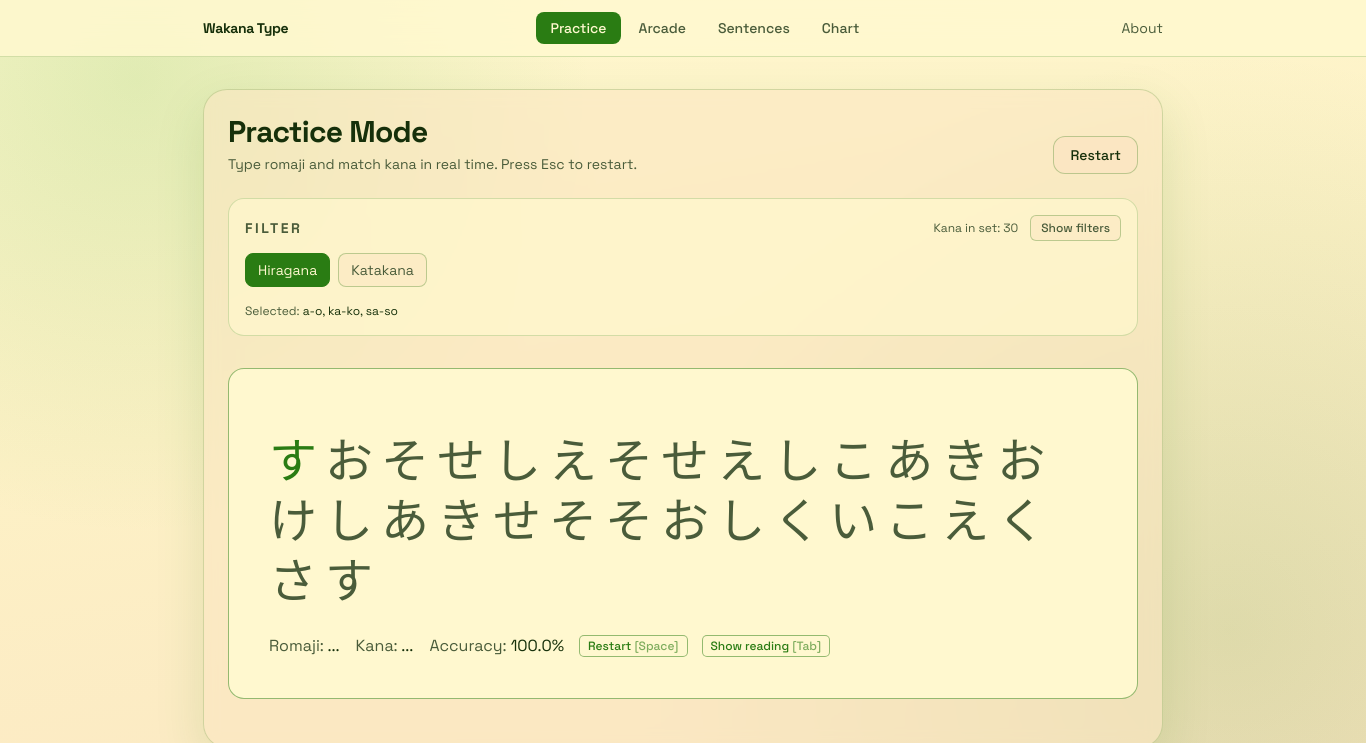
Test: Character filter selection logic › selects and de-selects an entire group family
The image size is (1366, 743).
expect the text "Selected:" is shown: met, box [245, 303, 303, 319]
Click the button "Show filters" at (1076, 228), box [1030, 215, 1121, 241]
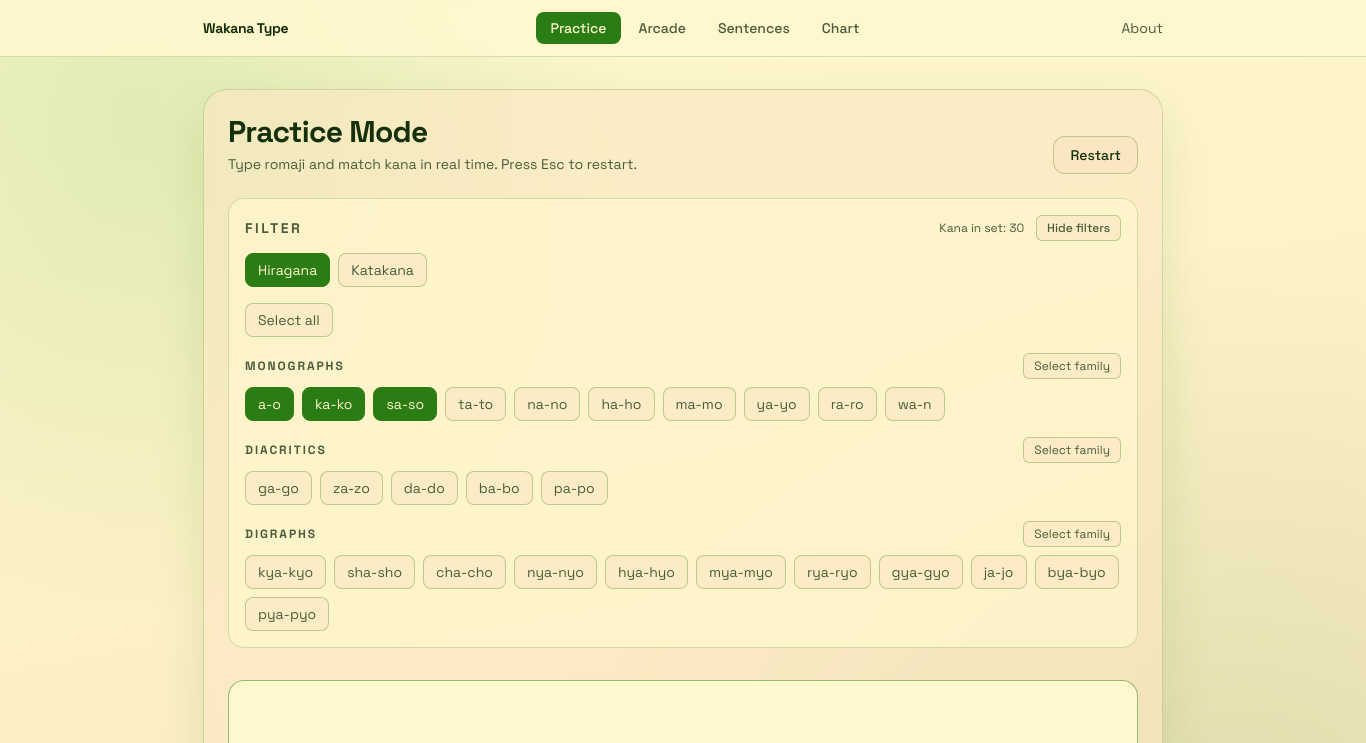
expect the button "Select family" in the row of "Monographs" is shown: met
Click the button "Select family" in the row of "Monographs" at (1072, 366), box [1023, 353, 1121, 379]
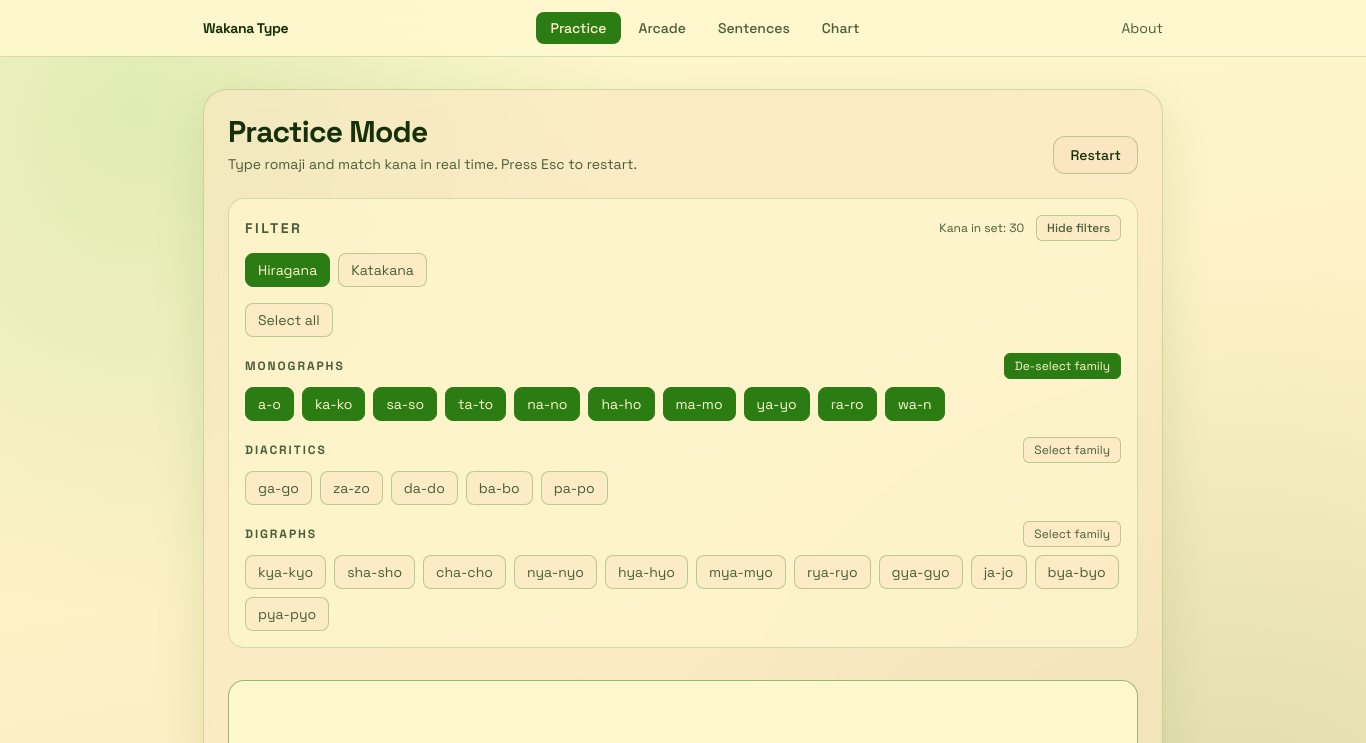
expect the button "De-select family" is shown: met
Click the button "De-select family" at (1062, 366), box [1004, 353, 1121, 379]
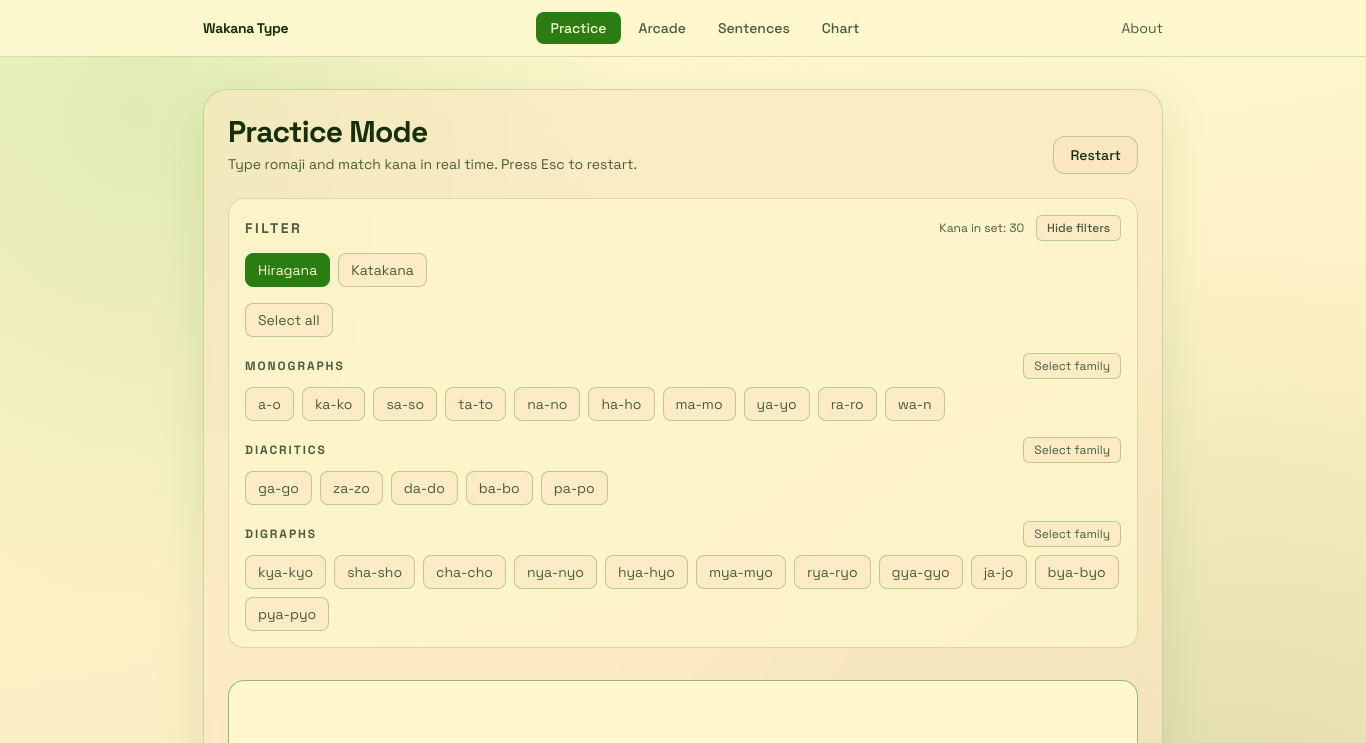
expect the button "Select family" in the row of "Monographs" is shown: met, box [1023, 353, 1121, 379]
